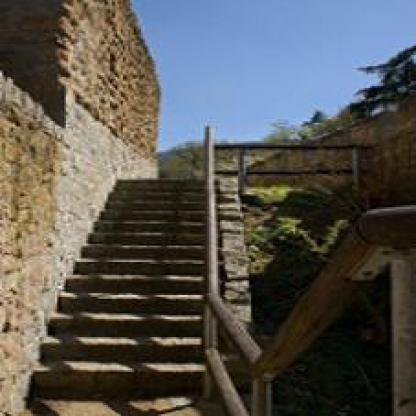stair_up: (9, 235, 235, 394)
